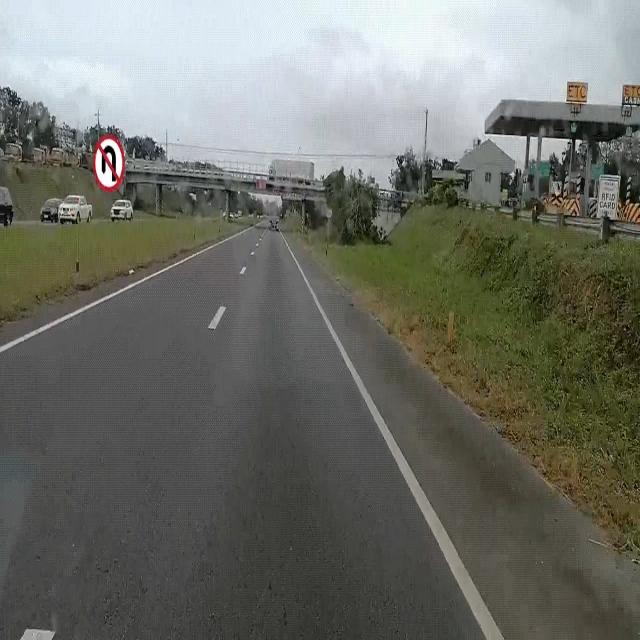Demi-Tour-Interdit: (91, 126, 129, 195)
